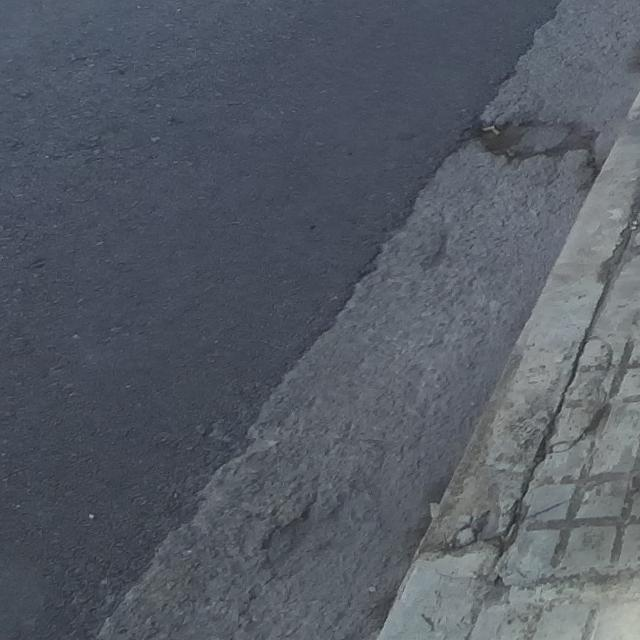calcada_quebrada: (547, 331, 614, 457)
